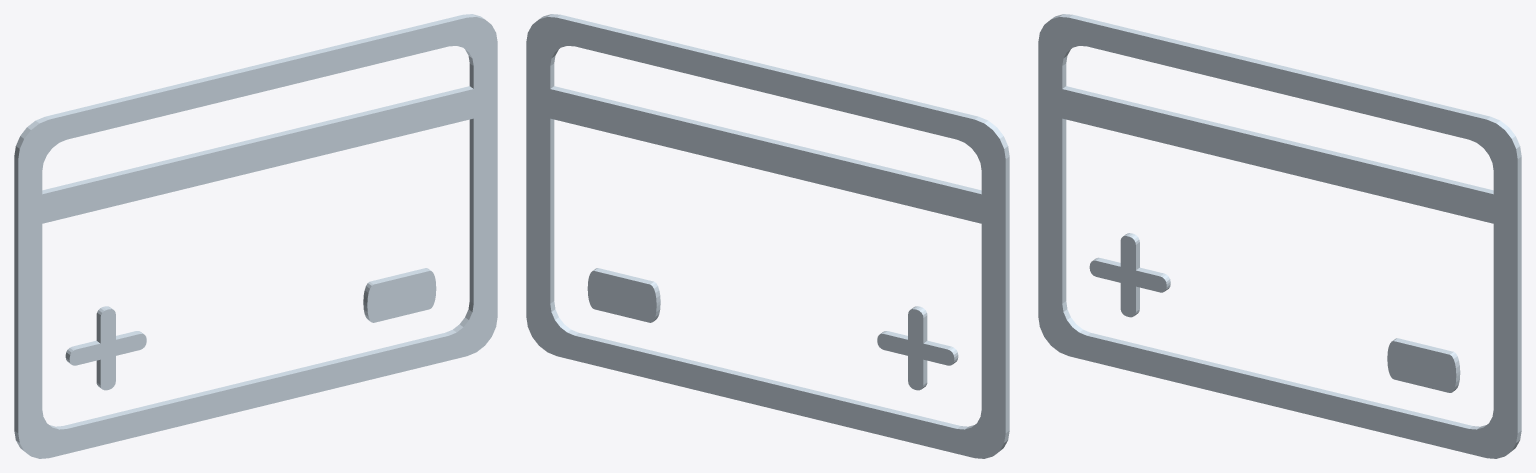
File: Payment_Card_Add_3D_Icon.fbx
The picture shows the model from 3 angles, left to right: view 1: azimuth 30°, elevation 25°; view 2: azimuth 150°, elevation 25°; view 3: azimuth 330°, elevation 25°; orthographic projection.
Visible parts, largest first — view 1: Payment_Card_Add_3D_Icon; view 2: Payment_Card_Add_3D_Icon; view 3: Payment_Card_Add_3D_Icon.
Part boxes in pixels (x1,y1,x2,y2): Payment_Card_Add_3D_Icon: (14,14,497,458); Payment_Card_Add_3D_Icon: (526,14,1009,458); Payment_Card_Add_3D_Icon: (1038,14,1521,458).
Size of the model in its own units: 138 by 93.31 by 2.
